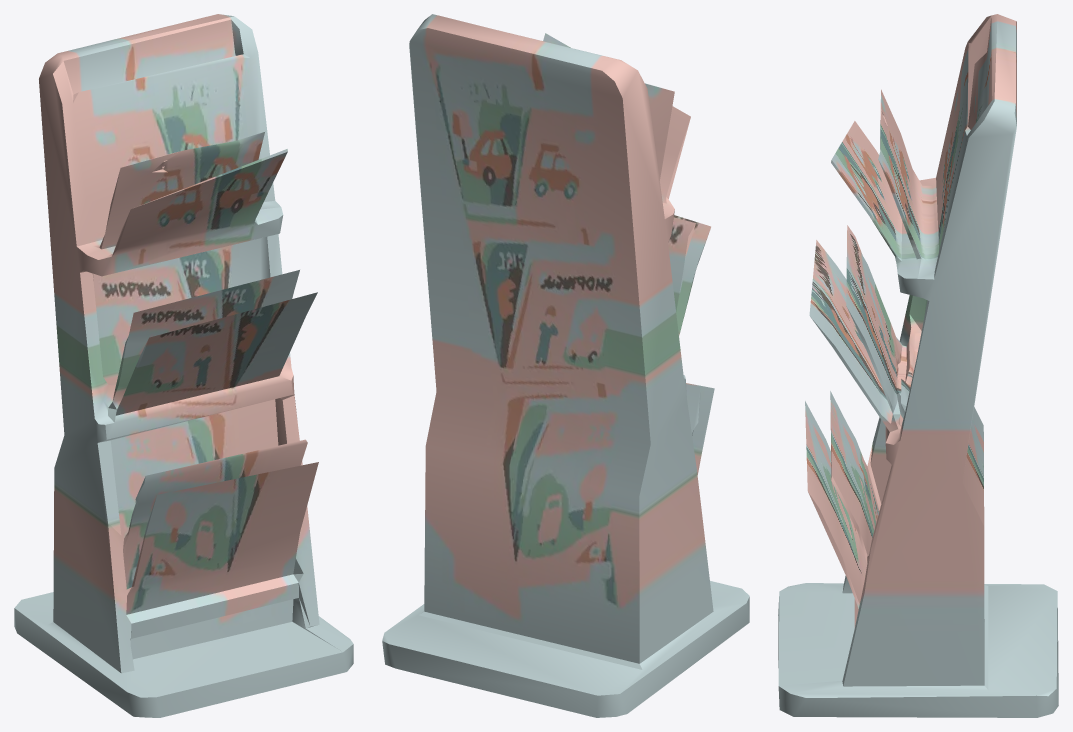
3 views of the same model, side by side, from view 1: azimuth 30°, elevation 25°; view 2: azimuth 150°, elevation 25°; view 3: azimuth 270°, elevation 25° (orthographic). The views are drawn at different scales.
Parts seen in each view (by area): view 1: Decor_brochure_rack; view 2: Decor_brochure_rack; view 3: Decor_brochure_rack.
Boxes of the visible parts, x1,y1,x2,y2 form: Decor_brochure_rack: (14,14,353,717); Decor_brochure_rack: (382,14,749,717); Decor_brochure_rack: (778,14,1058,717).
Size of the model in its own units: 0.6404 by 1.6 by 0.6707.
1 material, 1 textured.
